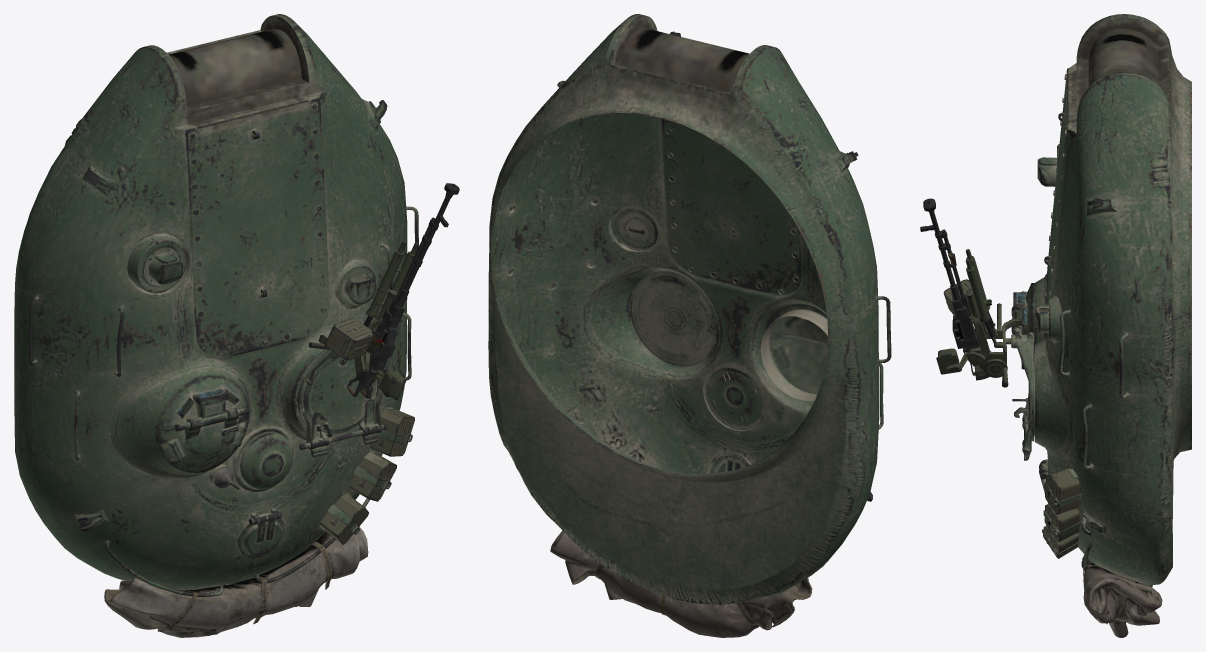
The model's file is Turret_01.glb.
3 views of the same model, side by side, from view 1: azimuth 30°, elevation 25°; view 2: azimuth 150°, elevation 25°; view 3: azimuth 270°, elevation 25° (orthographic). The views are drawn at different scales.
Visible parts, largest first — view 1: set_0_group_0; view 2: set_0_group_0; view 3: set_0_group_0.
Boxes of the visible parts, box(x1,y1,x2,y2) form: set_0_group_0: box(14, 14, 459, 637); set_0_group_0: box(488, 14, 891, 637); set_0_group_0: box(920, 14, 1191, 637).
Bounding box in the file's own units: 2.88 × 4.23 × 1.85.
1 material, 1 textured.
